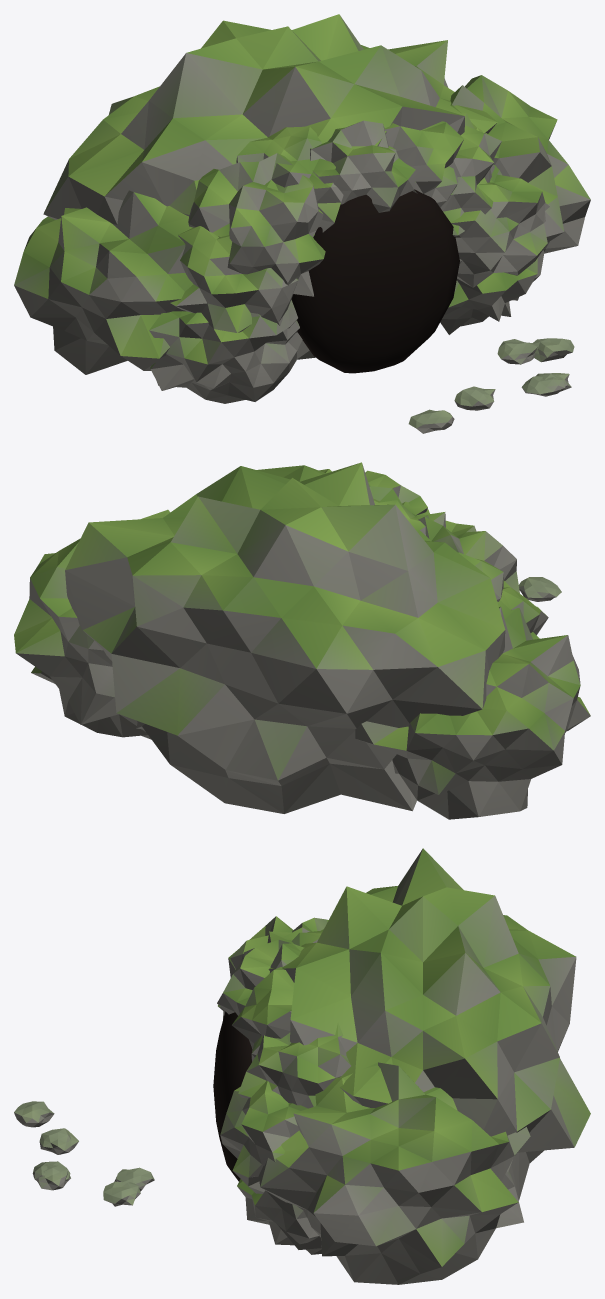
File: bear_cave.glb
The picture shows the model from 3 angles, top to bottom: view 1: azimuth 30°, elevation 25°; view 2: azimuth 150°, elevation 25°; view 3: azimuth 270°, elevation 25°; orthographic projection.
Visible parts, largest first — view 1: CaveRocks-col, CaveOpening, CaveStones; view 2: CaveRocks-col, CaveStones; view 3: CaveRocks-col, CaveStones, CaveOpening.
Boxes of the visible parts, box(x1,y1,x2,y2) form: CaveRocks-col: box(14, 14, 590, 403); CaveOpening: box(291, 189, 459, 373); CaveStones: box(408, 338, 574, 433); CaveRocks-col: box(14, 462, 590, 819); CaveStones: box(518, 577, 561, 601); CaveRocks-col: box(217, 848, 590, 1284); CaveStones: box(14, 1101, 154, 1206); CaveOpening: box(213, 1011, 252, 1181).
Bounding box in the file's own units: 10.03 × 5.73 × 9.49.
